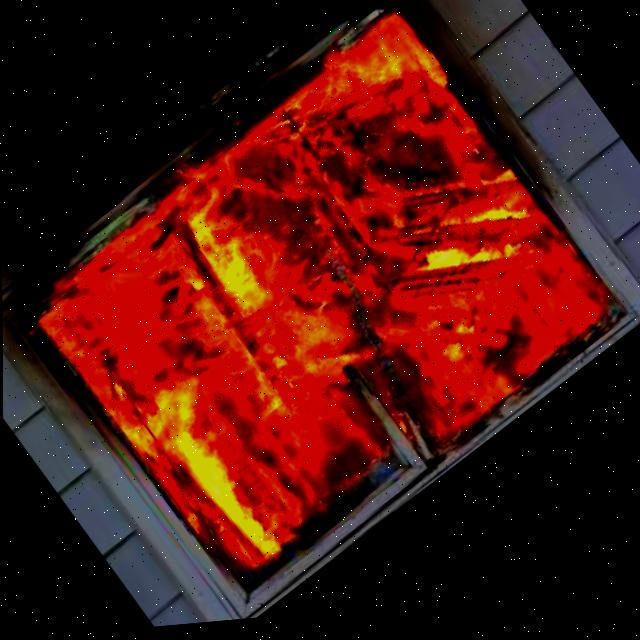Fire: (11, 0, 627, 625)
